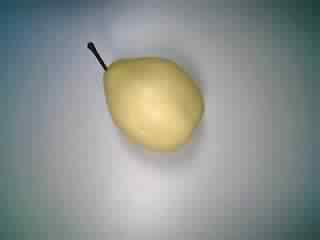pear: (80, 36, 210, 157)
